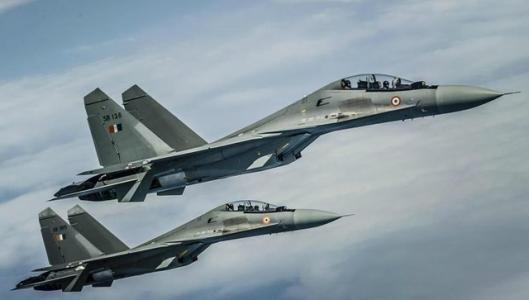airplane: (46, 71, 529, 205), (10, 193, 356, 294)
